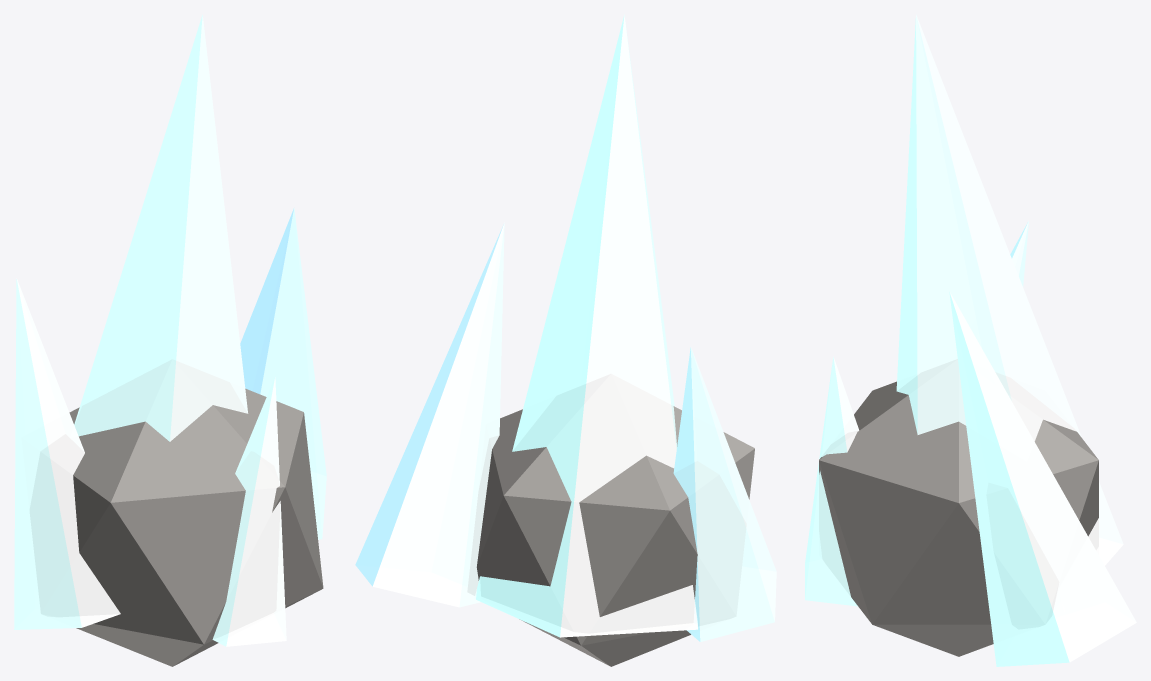
Rendered from crystalcluster.glb.
The picture shows the model from 3 angles, left to right: view 1: azimuth 30°, elevation 25°; view 2: azimuth 150°, elevation 25°; view 3: azimuth 270°, elevation 25°; orthographic projection. The views are drawn at different scales.
Parts seen in each view (by area): view 1: Icosphere, Cone, Cone.002, Cone.003, Cone.001; view 2: Cone, Icosphere, Cone.001, Cone.002; view 3: Icosphere, Cone, Cone.001, Cone.003, Cone.002.
Boxes of the visible parts, x1,y1,x2,y2 form: Icosphere: (69,388,323,666); Cone: (74,15,248,441); Cone.002: (14,278,120,629); Cone.003: (212,377,286,646); Cone.001: (240,208,326,539); Cone: (476,14,697,637); Icosphere: (476,406,754,666); Cone.001: (355,222,504,607); Cone.002: (673,346,776,641); Icosphere: (819,381,1098,656); Cone: (896,14,1123,565); Cone.001: (949,291,1136,666); Cone.003: (805,356,859,606); Cone.002: (1010,221,1028,286).
Size of the model in its own units: 0.8705 by 1.47 by 0.6852.
